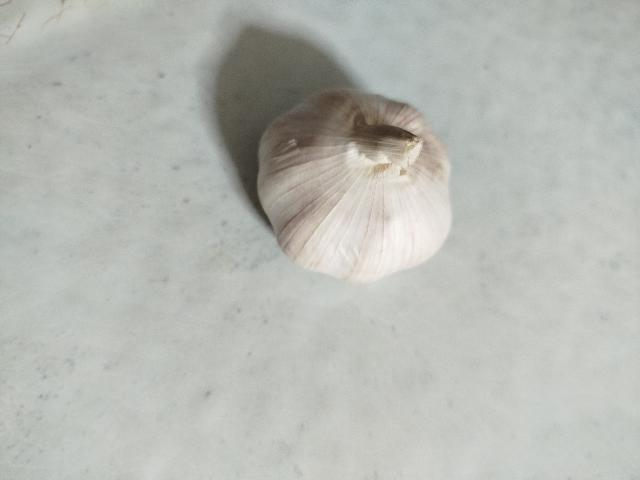garlic: (256, 87, 452, 284)
